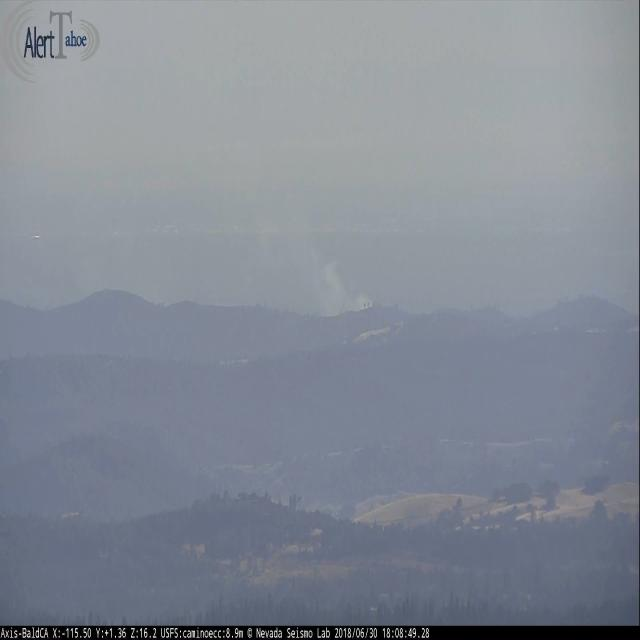smoke: (313, 251, 374, 311)
